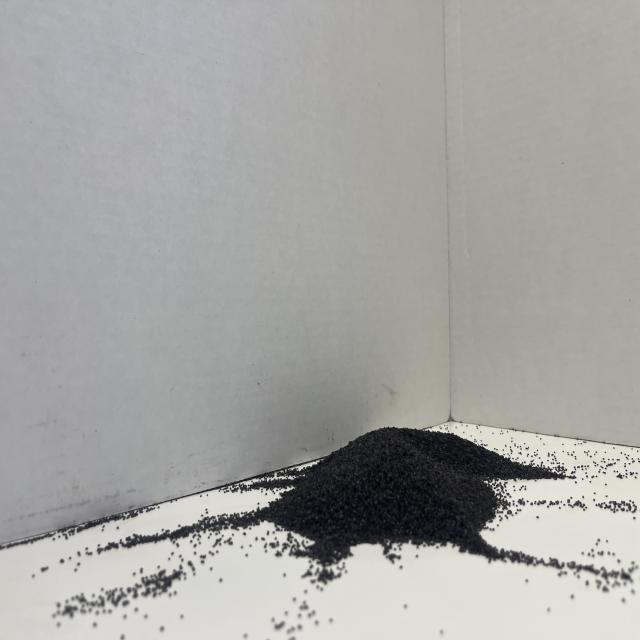Poppy Seeds: (238, 413, 582, 581)
